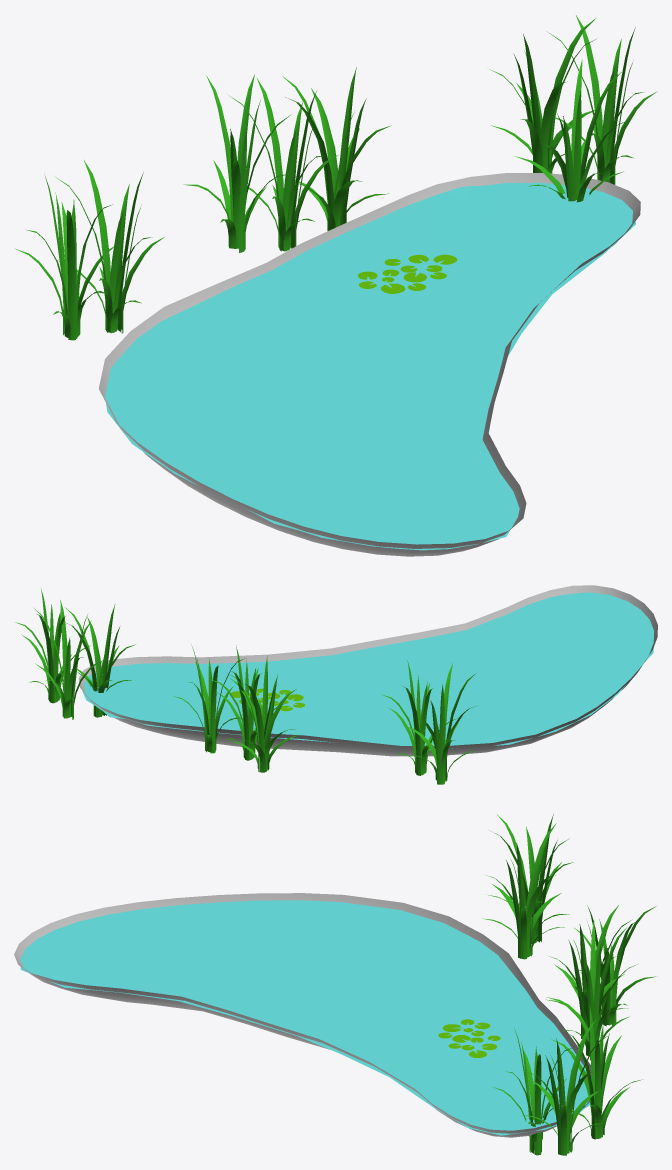
The model's file is Garden_pond.fbx.
3 renders of one model, top to bottom at view 1: azimuth 30°, elevation 25°; view 2: azimuth 150°, elevation 25°; view 3: azimuth 270°, elevation 25°, orthographic. The views are drawn at different scales.
Parts seen in each view (by area): view 1: polySurface236, polySurface86, polySurface49, polySurface109, polySurface184; view 2: polySurface236, polySurface86, polySurface92, polySurface207, polySurface153, polySurface109, polySurface184, polySurface44, polySurface120, polySurface199, polySurface52, polySurface111 (+1 smaller); view 3: polySurface236, polySurface86, polySurface124, polySurface151, polySurface186.
Boxes of the visible parts, x1=… form: polySurface236: x1=105, y1=182, x2=635, y2=550; polySurface86: x1=98, y1=173, x2=640, y2=556; polySurface49: x1=66, y1=210, x2=75, y2=340; polySurface109: x1=257, y1=78, x2=283, y2=247; polySurface184: x1=84, y1=160, x2=110, y2=329; polySurface236: x1=82, y1=592, x2=654, y2=750; polySurface86: x1=78, y1=585, x2=657, y2=756; polySurface92: x1=210, y1=665, x2=218, y2=753; polySurface207: x1=244, y1=684, x2=265, y2=772; polySurface153: x1=37, y1=614, x2=54, y2=703; polySurface109: x1=231, y1=671, x2=249, y2=760; polySurface184: x1=403, y1=686, x2=420, y2=775; polySurface44: x1=431, y1=701, x2=441, y2=784; polySurface120: x1=87, y1=617, x2=103, y2=713; polySurface199: x1=262, y1=655, x2=267, y2=741; polySurface52: x1=439, y1=684, x2=444, y2=784; polySurface111: x1=60, y1=600, x2=67, y2=692; polySurface236: x1=20, y1=900, x2=589, y2=1135; polySurface86: x1=14, y1=893, x2=591, y2=1137; polySurface124: x1=534, y1=1054, x2=541, y2=1155; polySurface151: x1=566, y1=1020, x2=595, y2=1150; polySurface186: x1=526, y1=823, x2=556, y2=948.
Bounding box in the file's own units: 981 × 263 × 1024.
